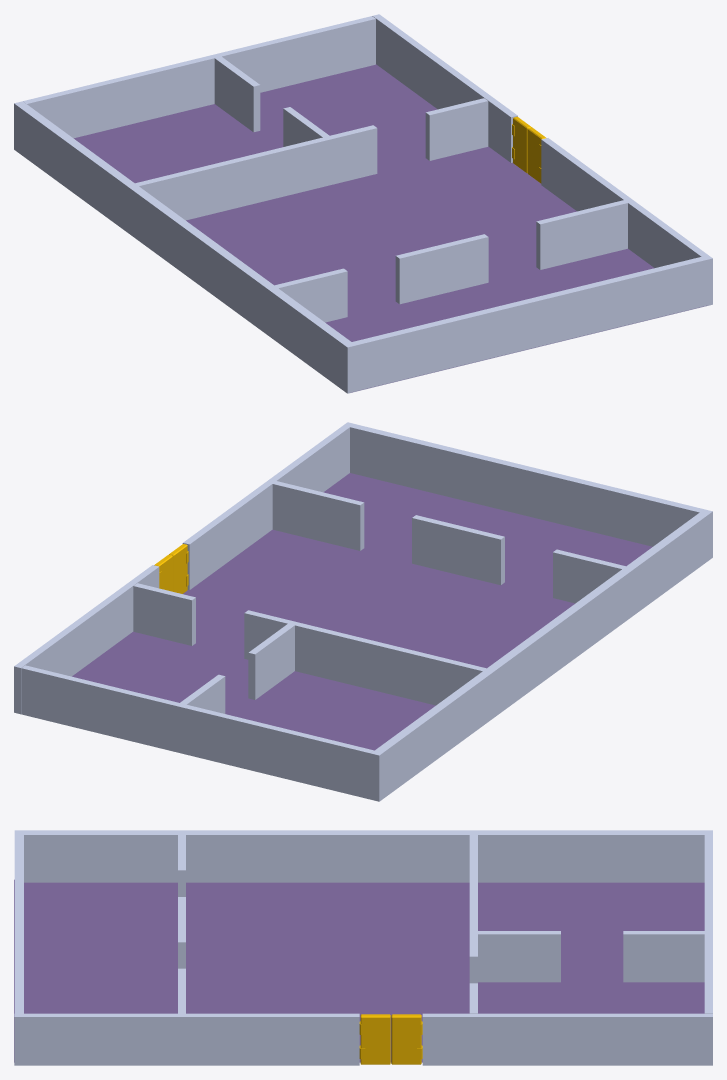
Rendered from maps59.fbx.
The picture shows the model from 3 angles, top to bottom: view 1: azimuth 30°, elevation 25°; view 2: azimuth 150°, elevation 25°; view 3: azimuth 270°, elevation 25°; orthographic projection. The views are drawn at different scales.
Visible parts, largest first — view 1: wall_01_08_geo, wall_01_07_geo, wall_01_05_geo1, wall_01_09_geo19, wall_01_09_geo23, wall_01_09_geo33, wall_01_06_geo2, wall_01_06_geo1, wall_01_09_geo32, wall_01_09_geo35, wall_01_09_geo26, wall_01_09_geo27 (+2 smaller); view 2: wall_01_08_geo, wall_01_07_geo, wall_01_09_geo19, wall_01_05_geo1, wall_01_09_geo23, wall_01_06_geo2, wall_01_09_geo33, wall_01_06_geo1, wall_01_09_geo32, wall_01_09_geo35, wall_01_09_geo27, wall_01_09_geo26 (+1 smaller); view 3: wall_01_08_geo, wall_01_07_geo, wall_01_06_geo2, wall_01_06_geo1, wall_01_09_geo27, wall_01_09_geo26, wall_01_05_geo1, wall_01_09_geo19, polySurface165, polySurface161, wall_01_09_geo23, wall_01_09_geo33.
Part boxes in pixels (x1,y1,x2,y2): wall_01_08_geo: [74, 64, 706, 392]; wall_01_07_geo: [14, 101, 356, 393]; wall_01_05_geo1: [352, 257, 705, 391]; wall_01_09_geo19: [23, 16, 375, 138]; wall_01_09_geo23: [135, 125, 377, 220]; wall_01_09_geo33: [274, 234, 488, 322]; wall_01_06_geo2: [541, 138, 712, 306]; wall_01_06_geo1: [372, 14, 517, 162]; wall_01_09_geo32: [536, 200, 627, 269]; wall_01_09_geo35: [425, 98, 488, 160]; wall_01_09_geo26: [214, 56, 260, 132]; wall_01_09_geo27: [283, 107, 329, 146]; wall_01_08_geo: [72, 473, 652, 750]; wall_01_07_geo: [370, 509, 712, 801]; wall_01_09_geo19: [21, 665, 374, 799]; wall_01_05_geo1: [350, 424, 703, 546]; wall_01_09_geo23: [244, 610, 486, 705]; wall_01_06_geo2: [182, 422, 353, 589]; wall_01_09_geo33: [412, 515, 625, 603]; wall_01_06_geo1: [14, 565, 159, 714]; wall_01_09_geo32: [272, 481, 364, 550]; wall_01_09_geo35: [133, 583, 195, 645]; wall_01_09_geo27: [248, 624, 294, 699]; wall_01_09_geo26: [180, 674, 225, 713]; wall_01_08_geo: [14, 879, 704, 1062]; wall_01_07_geo: [14, 830, 712, 882]; wall_01_06_geo2: [14, 1013, 359, 1065]; wall_01_06_geo1: [422, 1013, 712, 1065]; wall_01_09_geo27: [478, 931, 560, 982]; wall_01_09_geo26: [623, 931, 705, 982]; wall_01_05_geo1: [14, 835, 23, 1013]; wall_01_09_geo19: [704, 835, 712, 1013]; polySurface165: [391, 1014, 422, 1064]; polySurface161: [359, 1014, 390, 1064]; wall_01_09_geo23: [469, 835, 477, 983]; wall_01_09_geo33: [178, 835, 185, 968].
Size of the model in its own units: 73.35 by 8.89 by 116.
Materials: 2 (2 with a texture image).
